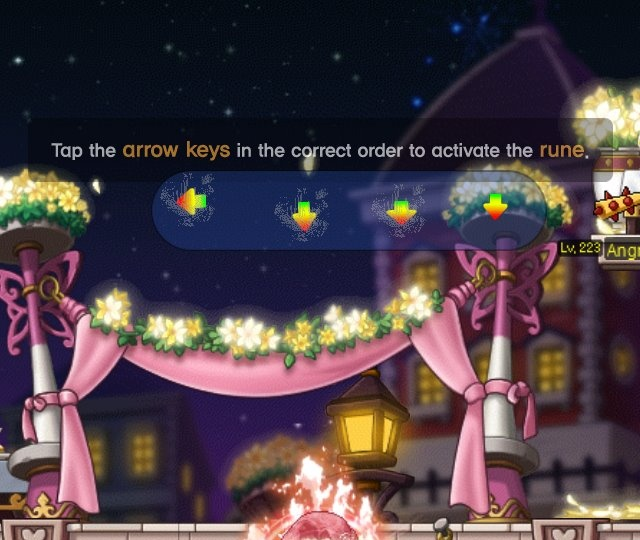down: (377, 193, 422, 233), (282, 197, 324, 235), (477, 188, 515, 222)
left: (171, 184, 216, 220)
